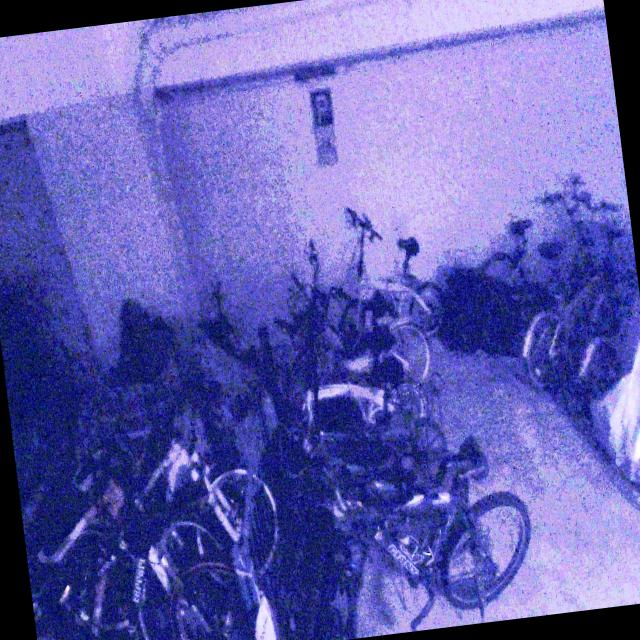bike: (54, 390, 288, 632), (293, 428, 541, 640), (14, 428, 238, 640), (503, 190, 640, 388), (276, 227, 434, 393), (318, 200, 448, 350), (472, 186, 605, 332)
